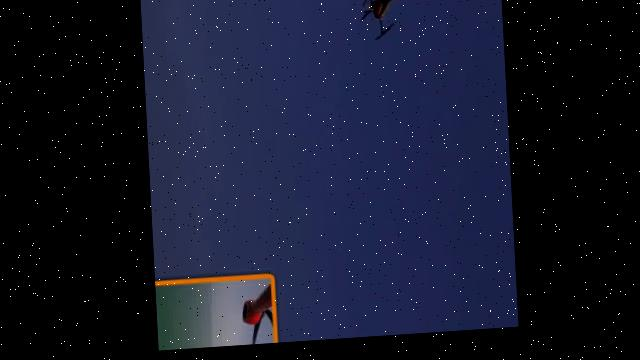drone: (349, 0, 430, 50)
